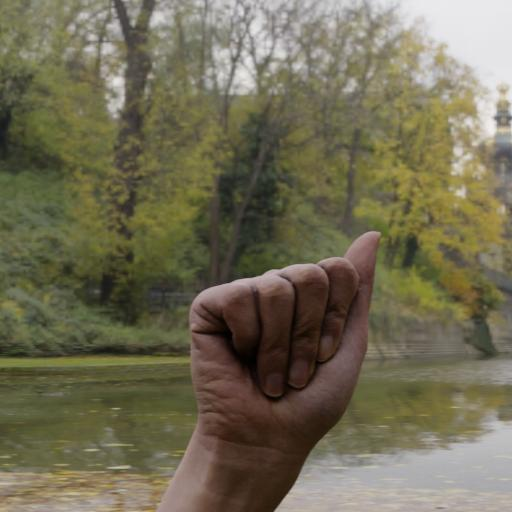A: (162, 223, 399, 464)
